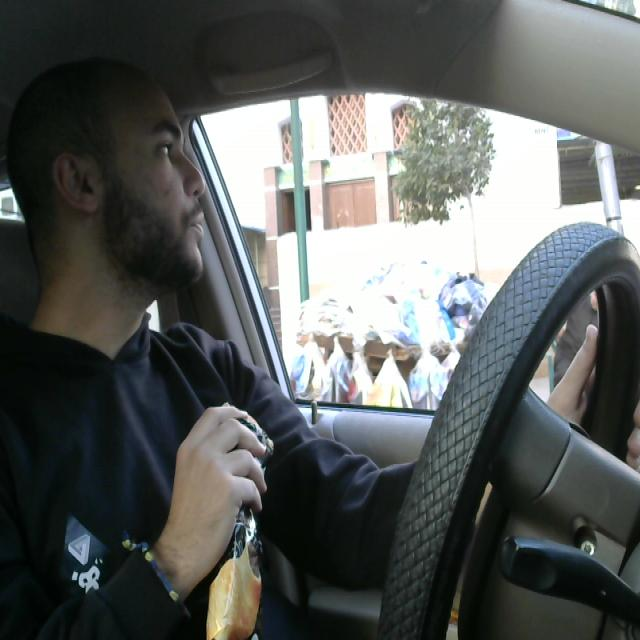eating: (198, 398, 280, 640)
